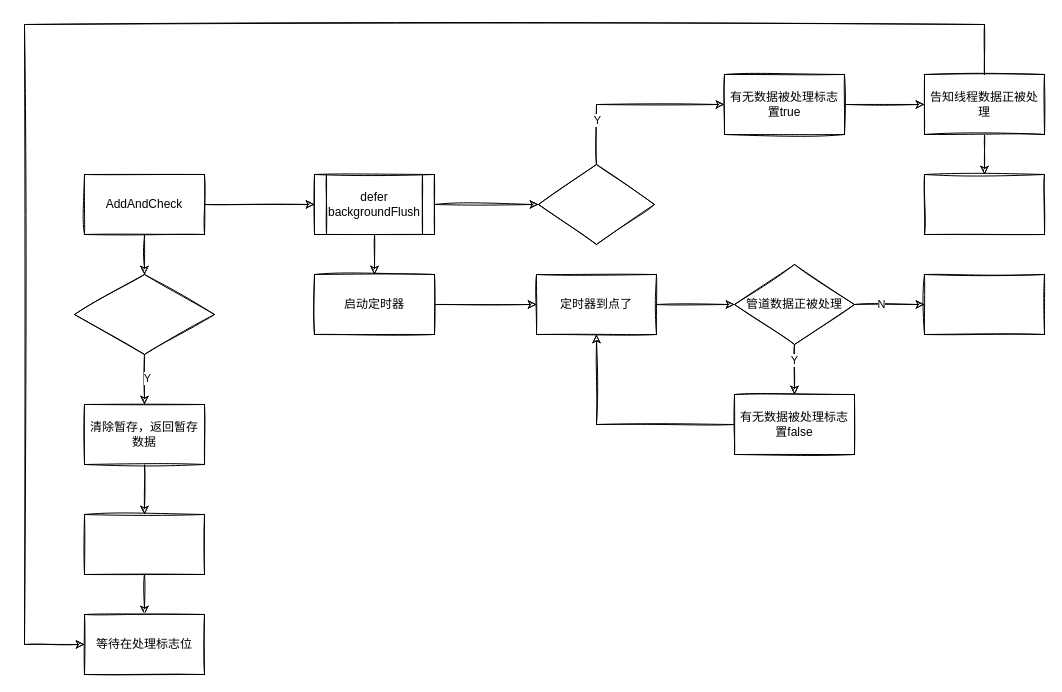
The diagram is 1062 pixels wide and 692 high, and some of its shapes have lost their labels. The shapes that lost their labels are listed below. From the top down, each one's centre as x and y in pixels, then its label:
At pixel 596 204: "管道内有数据吗".
At pixel 984 204: "处理管道里的批量数据".
At pixel 144 314: "是否超出暂存容量".
At pixel 984 304: "处理未被写入管道的暂存数据".
At pixel 144 544: "向管道发送数据".
